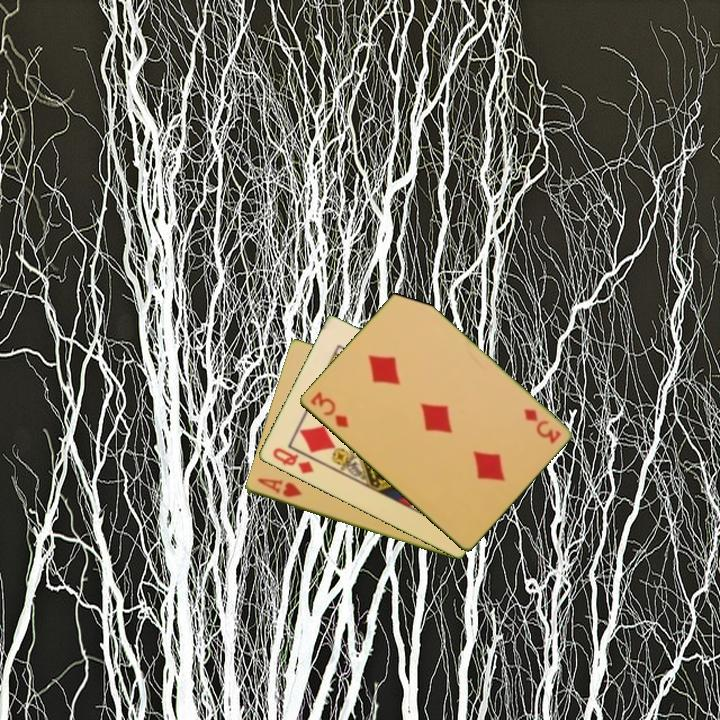3d: (306, 388, 351, 431), (520, 405, 563, 447)
Ah: (253, 475, 305, 501)
Qd: (269, 444, 316, 477)
